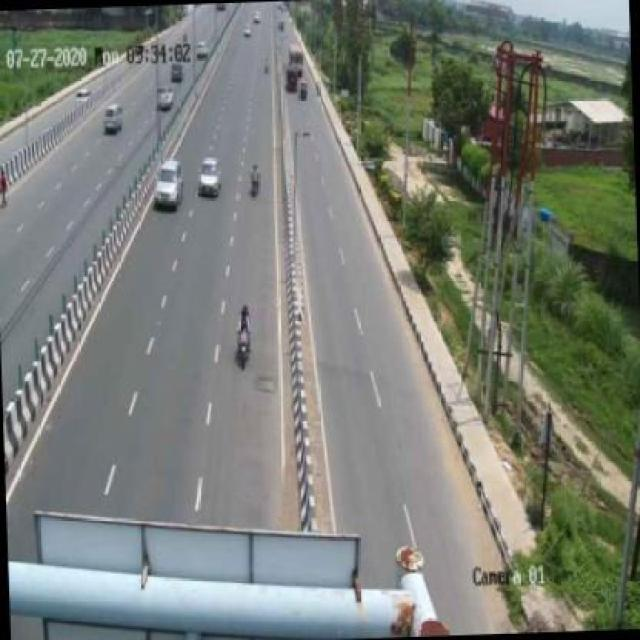car: (151, 154, 189, 211), (103, 100, 132, 134), (198, 157, 222, 198)
